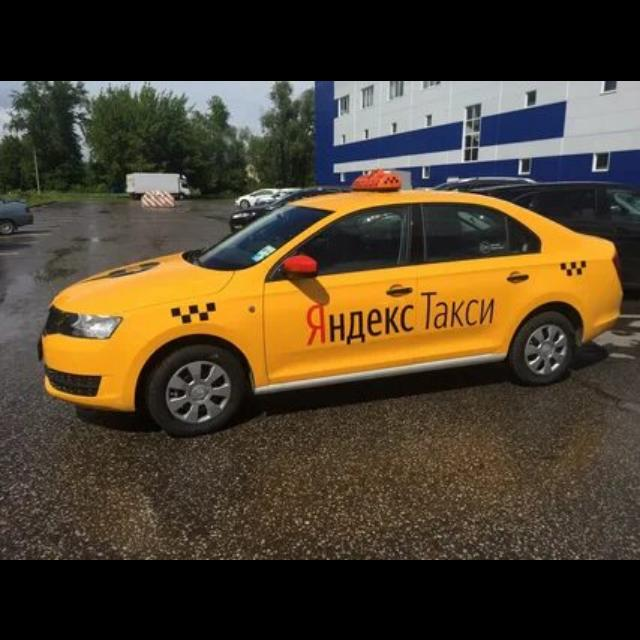taxi: (38, 167, 625, 436)
